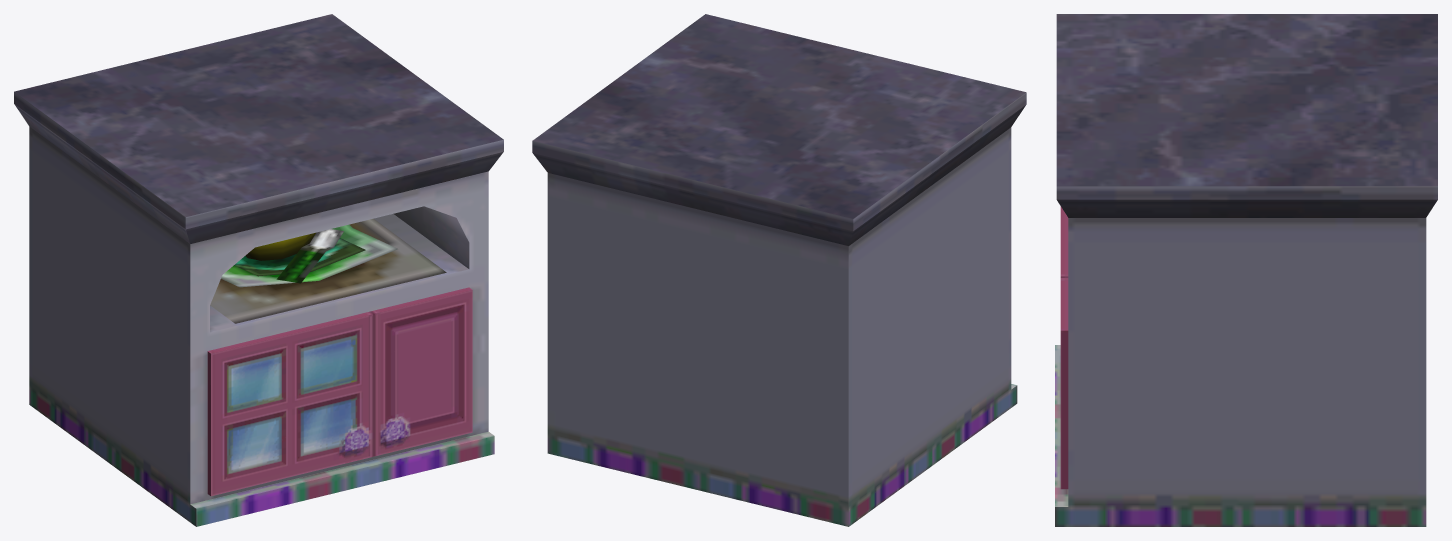
File: furni_0200621_01.FBX
3 renders of one model, left to right at view 1: azimuth 30°, elevation 25°; view 2: azimuth 150°, elevation 25°; view 3: azimuth 270°, elevation 25°, orthographic. The views are drawn at different scales.
Visible parts, largest first — view 1: furni_0200621_01; view 2: furni_0200621_01; view 3: furni_0200621_01.
Part boxes in pixels (x1,y1,x2,y2): furni_0200621_01: (14,14,503,526); furni_0200621_01: (532,14,1026,526); furni_0200621_01: (1055,14,1437,526).
Bounding box in the file's own units: 85.28 × 79.79 × 80.04.
Materials: 1 (1 with a texture image).
